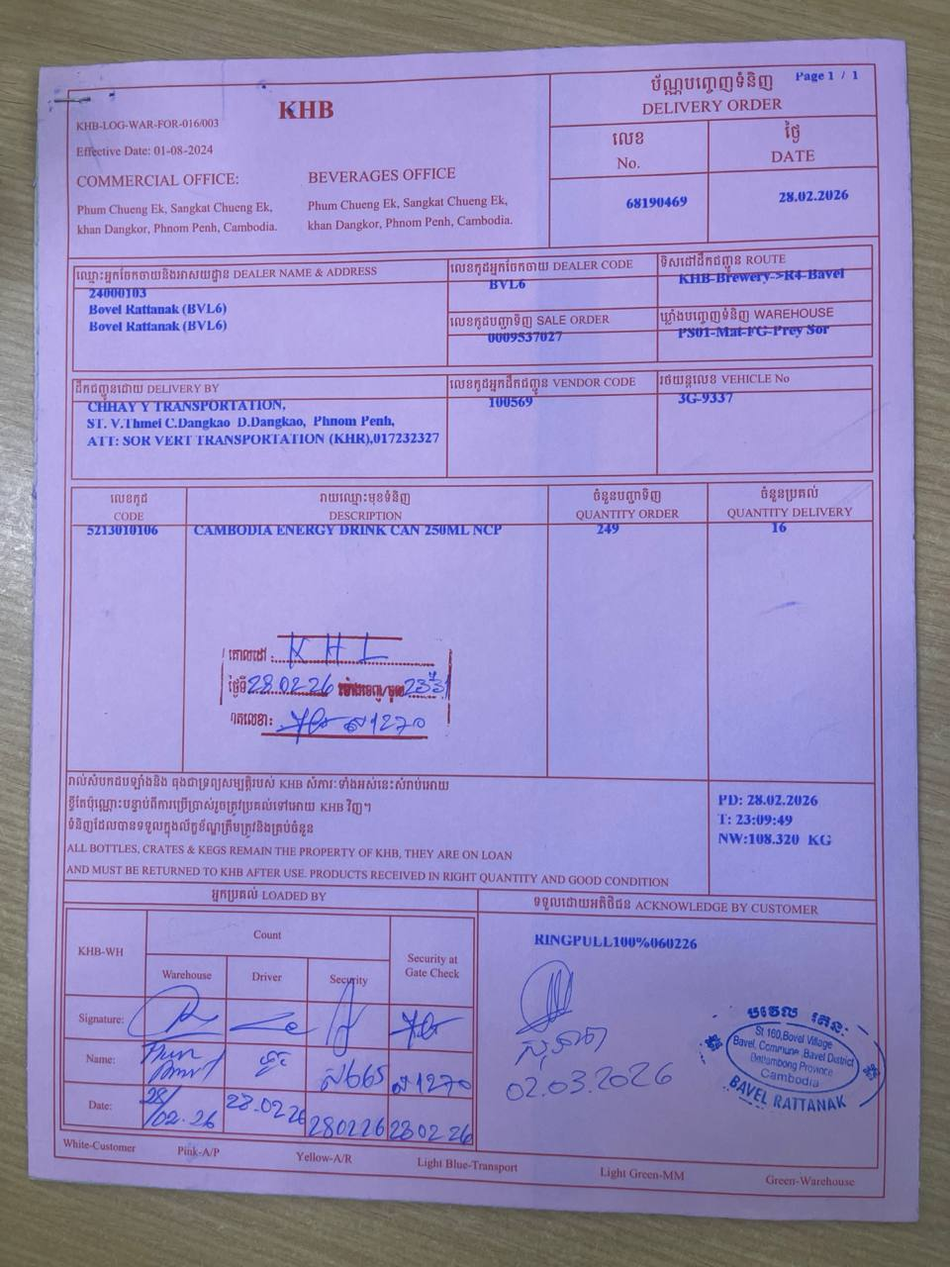Dealer Code: (438, 247, 658, 308)
Invoice Date: (708, 166, 879, 242)
Invoice No: (545, 174, 710, 246)
Sale Order: (438, 307, 658, 367)
Vehicle Code: (655, 366, 882, 478)
Vender Code: (443, 366, 657, 483)
